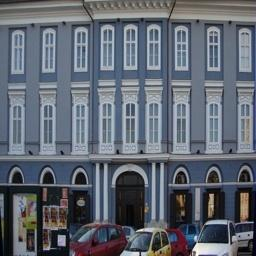building: (0, 0, 256, 246)
